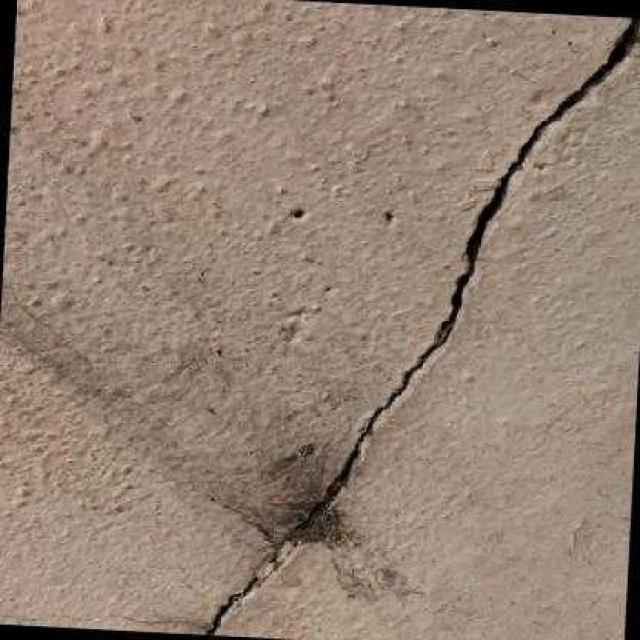D00: (203, 16, 640, 635)
